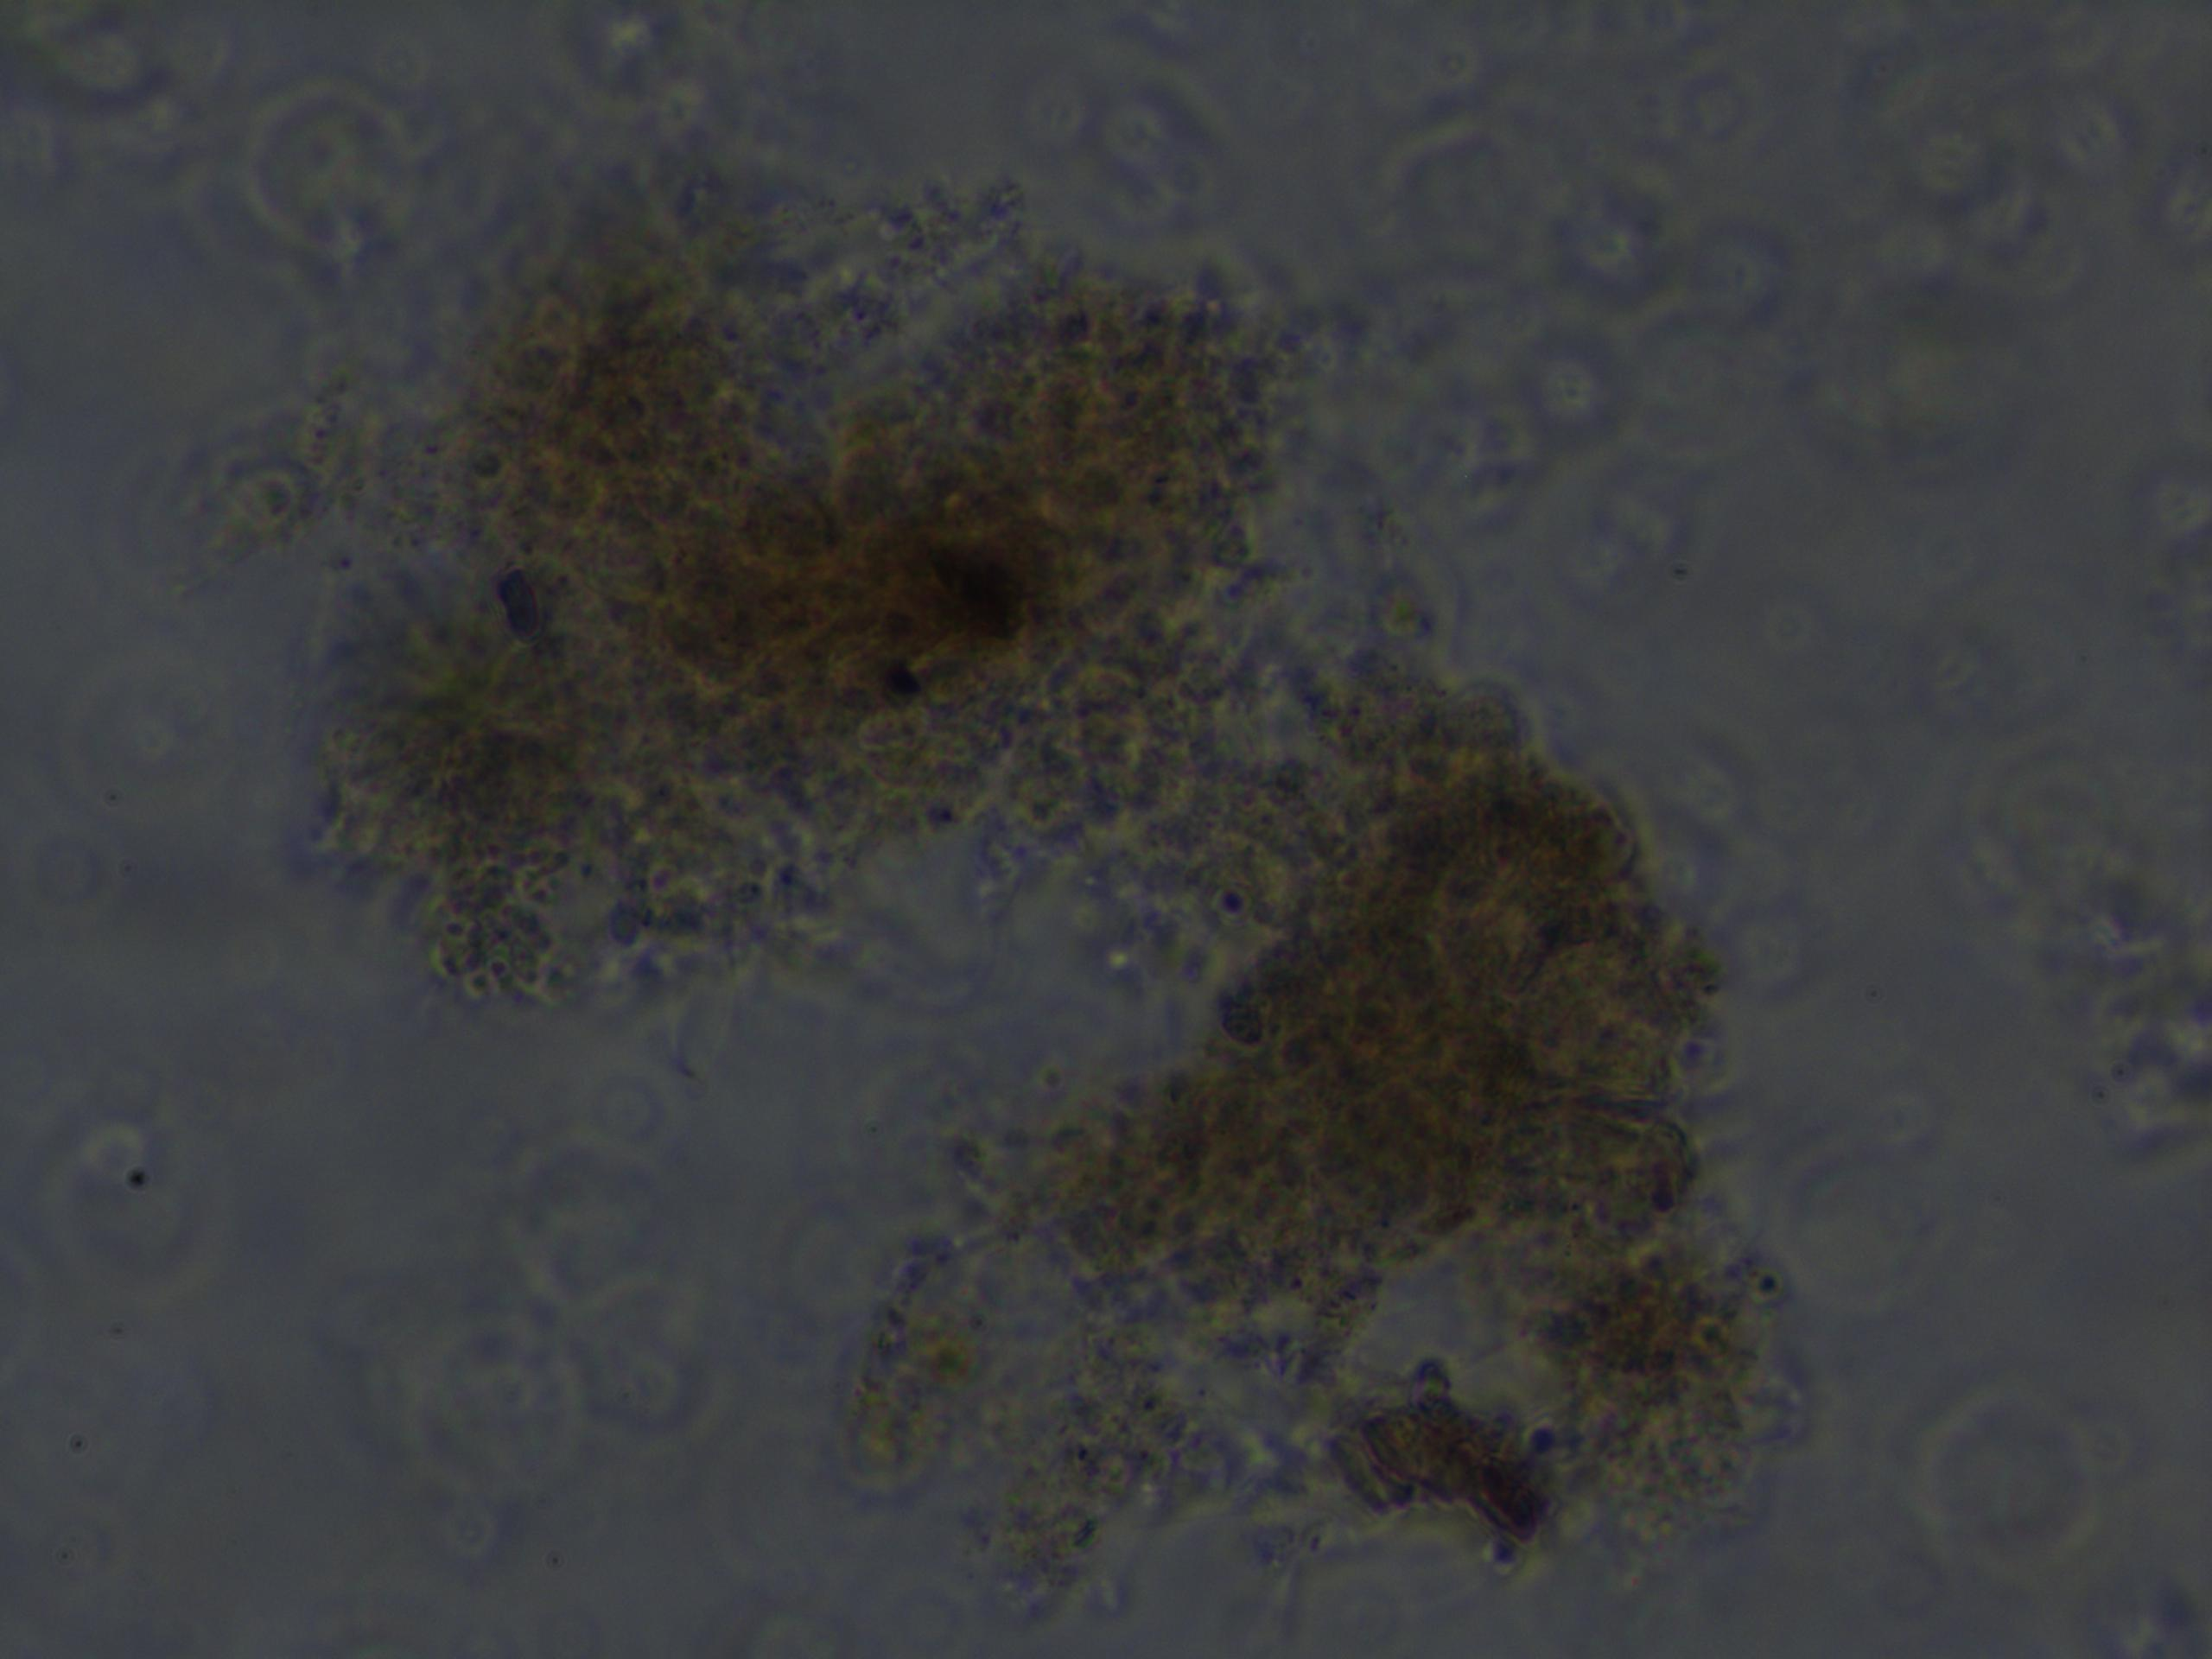spherical_floc: (310, 192, 1811, 1556)
